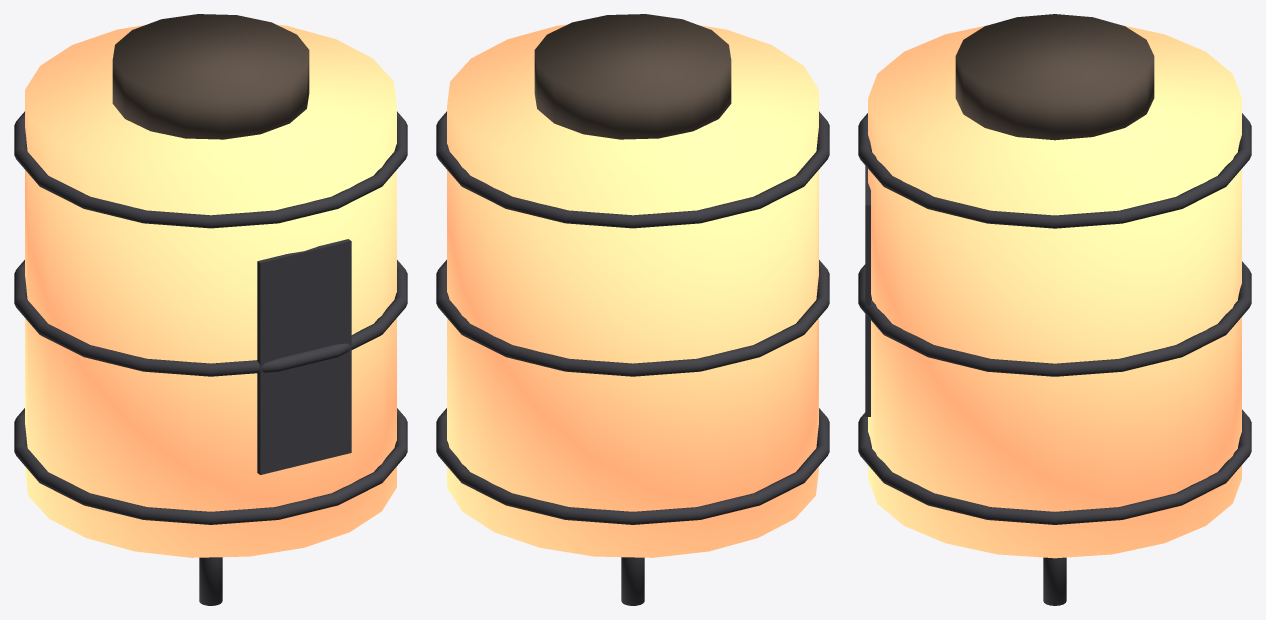
File: prop_akachochin.glb
3 views of the same model, side by side, from view 1: azimuth 30°, elevation 25°; view 2: azimuth 150°, elevation 25°; view 3: azimuth 270°, elevation 25° (orthographic).
Visible parts, largest first — view 1: akachochin; view 2: akachochin; view 3: akachochin.
Boxes of the visible parts, x1=… form: akachochin: x1=14, y1=14, x2=407, y2=605; akachochin: x1=436, y1=14, x2=829, y2=605; akachochin: x1=858, y1=14, x2=1251, y2=605.
Size of the model in its own units: 0.684 by 1.03 by 0.6736.
